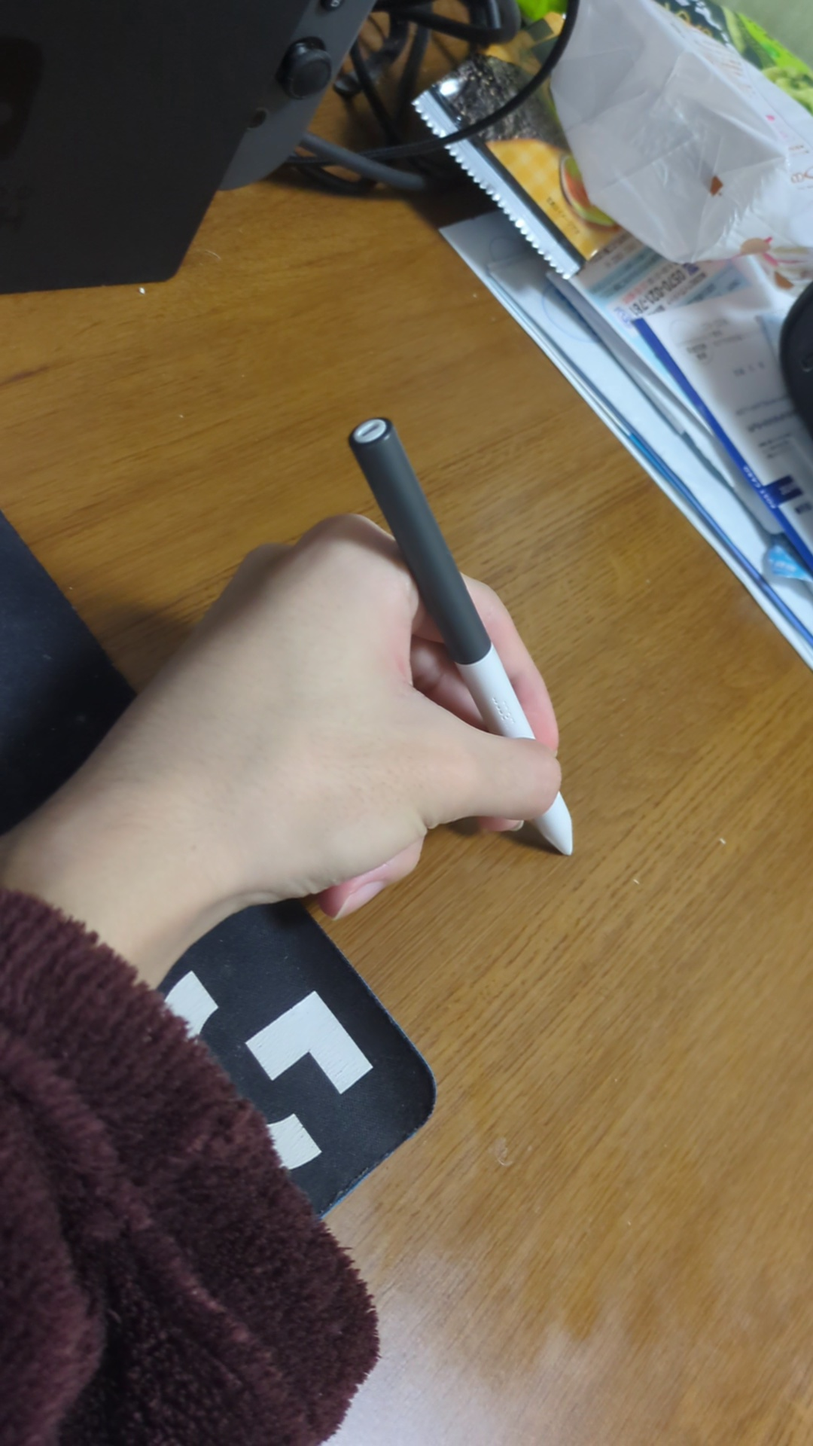pen: (350, 415, 581, 863)
tip: (559, 842, 577, 861)
